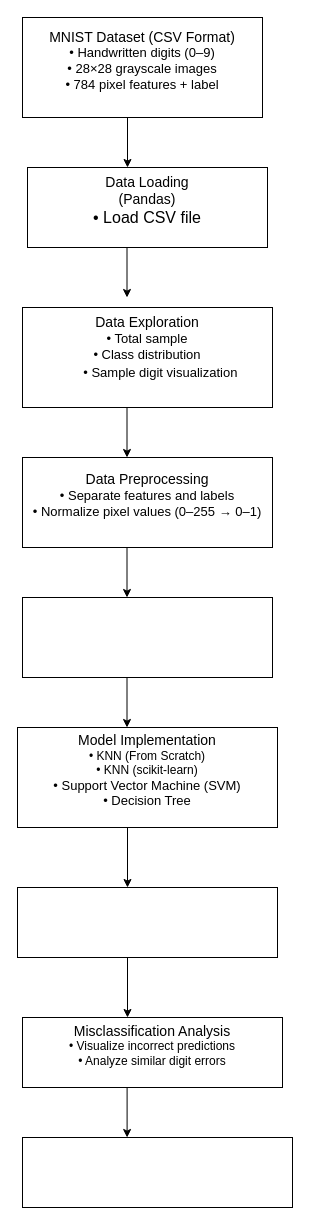
This 310x1225 diagram has some shape labels left out. Each missing label, with the centre of its shape:
Model Evaluation • Accuracy calculation • Confusion matrix generation: (147,922)
Results and Conclusion • Compare model performance • Final observations: (157,1172)
Train–Test Split • 80% Training data • 20% Testing data: (147,637)
